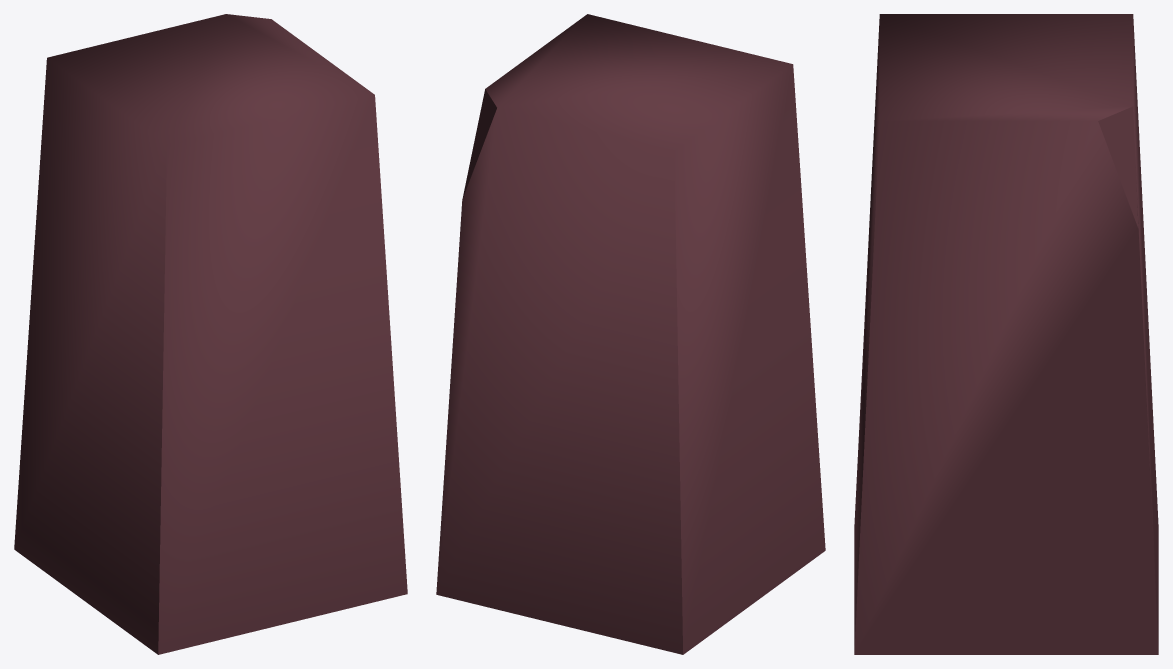
The model's file is obelisc4.fbx.
The picture shows the model from 3 angles, left to right: view 1: azimuth 30°, elevation 25°; view 2: azimuth 150°, elevation 25°; view 3: azimuth 270°, elevation 25°; orthographic projection. The views are drawn at different scales.
Visible parts, largest first — view 1: obelisk-old.002; view 2: obelisk-old.002; view 3: obelisk-old.002.
Boxes of the visible parts, x1=… form: obelisk-old.002: x1=14, y1=14, x2=407, y2=654; obelisk-old.002: x1=436, y1=14, x2=825, y2=654; obelisk-old.002: x1=854, y1=14, x2=1158, y2=654.
Bounding box in the file's own units: 260 × 493 × 260.
